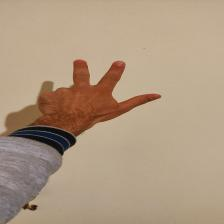three: (36, 58, 166, 115)
